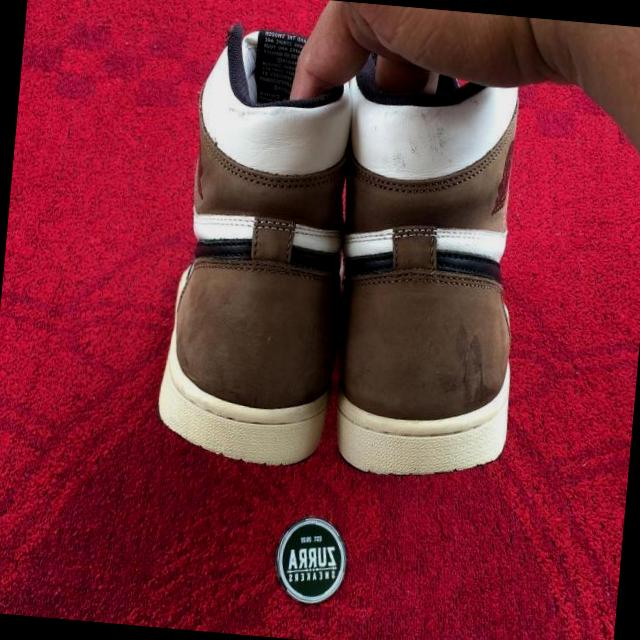nike_original_jordan: (147, 8, 362, 476), (312, 52, 534, 490)
